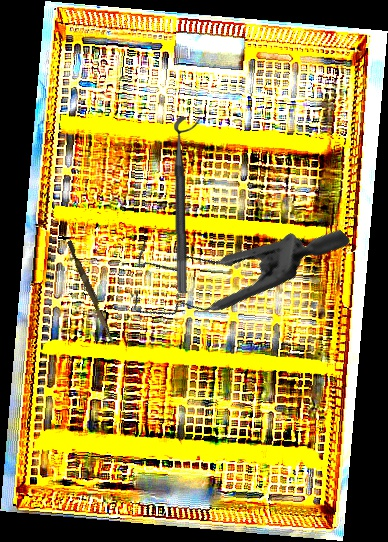Fixation Ring: (173, 116, 203, 294)
Pusher: (63, 240, 120, 346)
Speculum: (105, 137, 353, 385)
